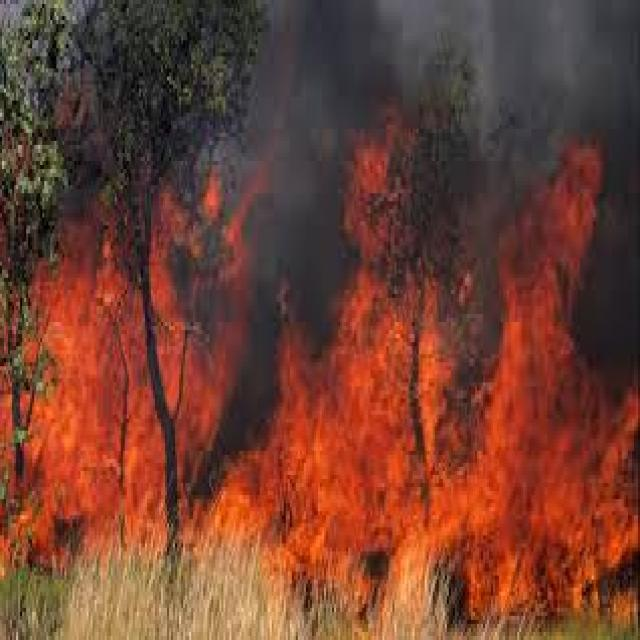Fire: (0, 204, 246, 584), (281, 331, 594, 591)
Smoke: (265, 0, 640, 176)
